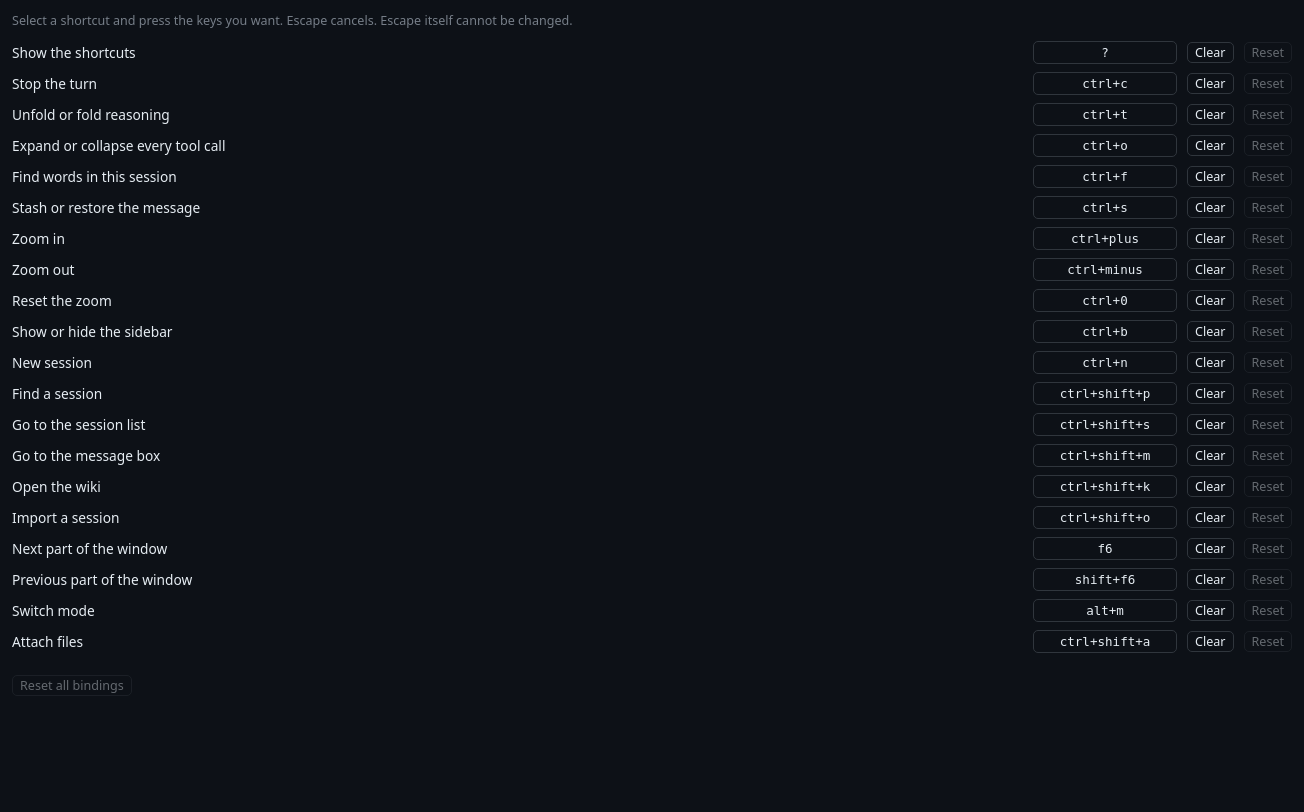
giving a key new keys › lets Tab out of a capture
The width and height of the screenshot is (1304, 812).
Click the button named "Show or hide the sidebar": (1105,332) [1033,320,1177,343]
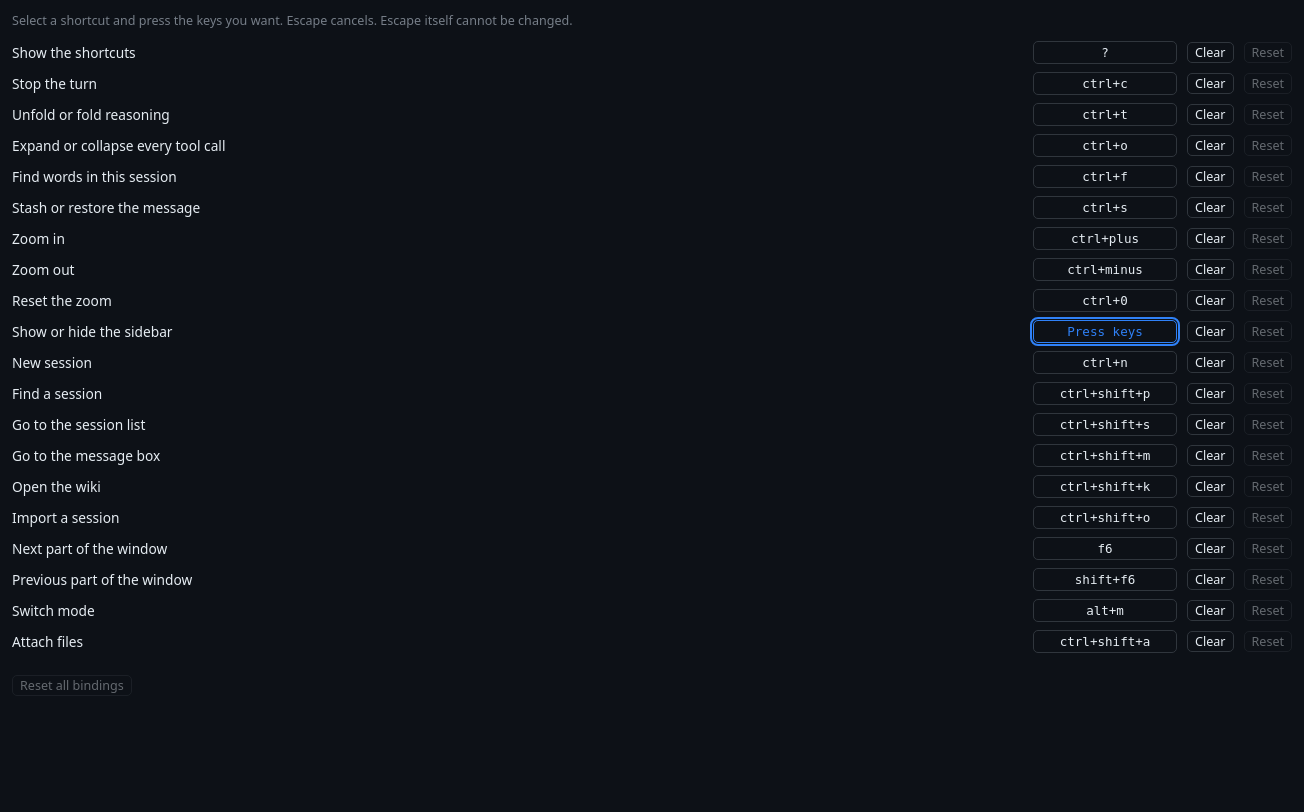
Press Tab
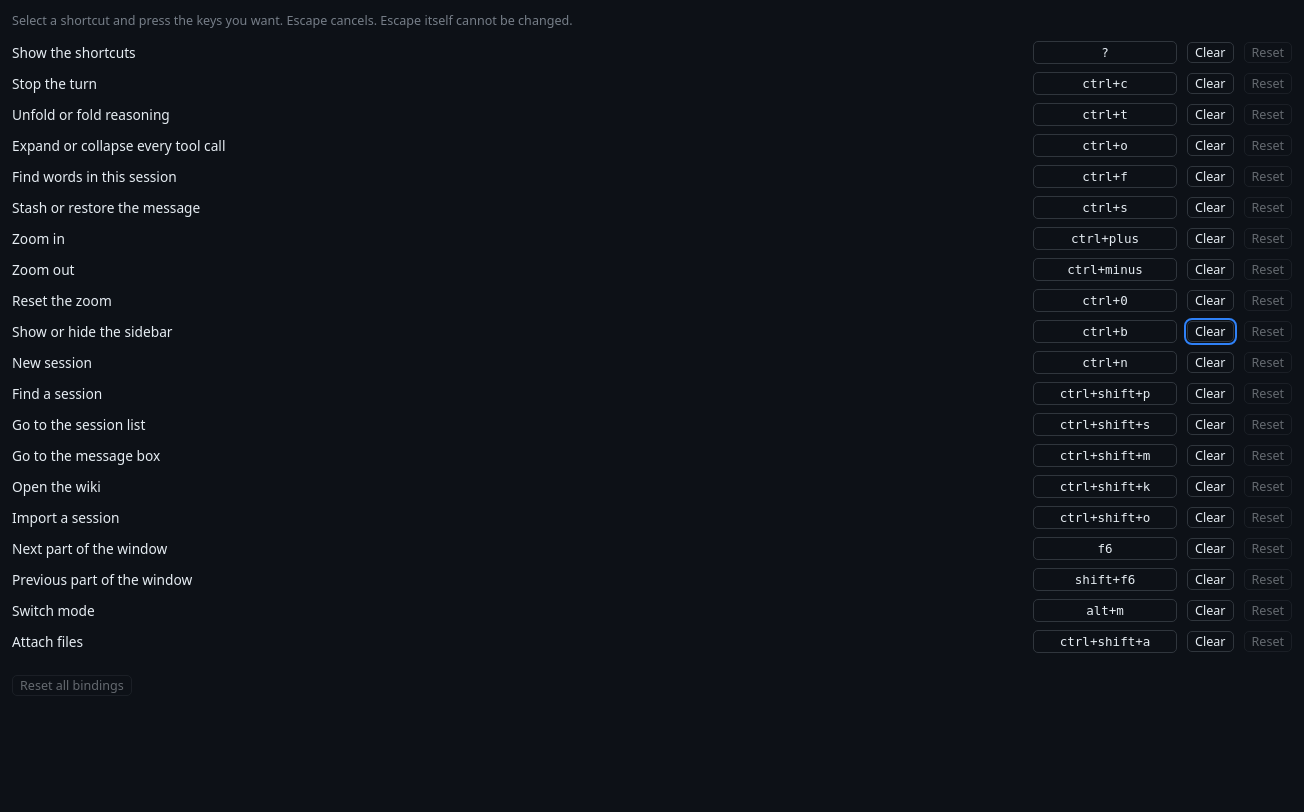
Expected: the button named "Show or hide the sidebar" reads "ctrl+b", [1033,320,1177,343]
